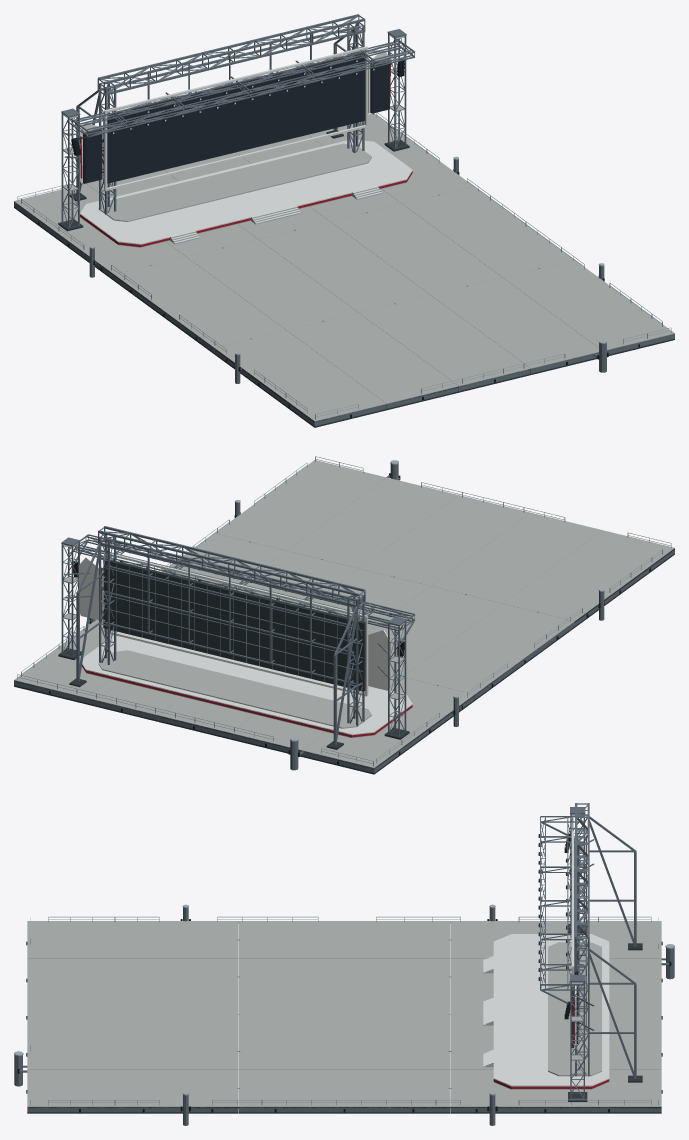
The model's file is sg-the-float.glb.
3 renders of one model, top to bottom at view 1: azimuth 30°, elevation 25°; view 2: azimuth 150°, elevation 25°; view 3: azimuth 270°, elevation 25°, orthographic. The views are drawn at different scales.
Parts seen in each view (by area): view 1: Platform_Deck, Performance_Riser_and_Stairs, LED_Screen_Main, Main_Stage_Proscenium, Overhead_Lighting_Trusses, Steel_Pontoon_Array, Perimeter_Guardrails, LED_Screens_Wings, Stage_Tower_Left, Stage_Tower_Right, Detachable_Mooring_Pylons, Edge_Fascia_and_Fenders; view 2: Platform_Deck, LED_Screen_Main, Main_Stage_Proscenium, Performance_Riser_and_Stairs, Steel_Pontoon_Array, Overhead_Lighting_Trusses, Perimeter_Guardrails, Stage_Wing_Cladding, Stage_Tower_Left, Stage_Tower_Right, Detachable_Mooring_Pylons, Edge_Fascia_and_Fenders; view 3: Platform_Deck, Performance_Riser_and_Stairs, Main_Stage_Proscenium, Steel_Pontoon_Array, Perimeter_Guardrails, Overhead_Lighting_Trusses, Detachable_Mooring_Pylons, Stage_Tower_Right, Edge_Fascia_and_Fenders, LED_Screen_Main, Stage_Tower_Left.
Boxes of the visible parts, x1,y1,x2,y2 form: Platform_Deck: (14, 113, 674, 421); Performance_Riser_and_Stairs: (80, 139, 412, 247); LED_Screen_Main: (103, 52, 365, 183); Main_Stage_Proscenium: (69, 14, 368, 214); Overhead_Lighting_Trusses: (67, 39, 415, 140); Steel_Pontoon_Array: (14, 202, 674, 427); Perimeter_Guardrails: (17, 112, 671, 419); LED_Screens_Wings: (83, 59, 389, 183); Stage_Tower_Left: (58, 108, 83, 231); Stage_Tower_Right: (384, 29, 409, 151); Detachable_Mooring_Pylons: (82, 156, 608, 383); Edge_Fascia_and_Fenders: (18, 205, 639, 422); Platform_Deck: (14, 460, 674, 768); LED_Screen_Main: (103, 560, 365, 691); Main_Stage_Proscenium: (69, 526, 368, 749); Performance_Riser_and_Stairs: (80, 632, 412, 737); Steel_Pontoon_Array: (14, 550, 674, 774); Overhead_Lighting_Trusses: (67, 534, 415, 645); Perimeter_Guardrails: (17, 456, 671, 766); Stage_Wing_Cladding: (64, 557, 390, 690); Stage_Tower_Left: (384, 617, 409, 739); Stage_Tower_Right: (58, 537, 81, 659); Detachable_Mooring_Pylons: (89, 460, 604, 770); Edge_Fascia_and_Fenders: (15, 548, 674, 769); Platform_Deck: (27, 921, 661, 1106); Performance_Riser_and_Stairs: (483, 934, 609, 1089); Main_Stage_Proscenium: (571, 803, 642, 1082); Steel_Pontoon_Array: (27, 1107, 661, 1113); Perimeter_Guardrails: (30, 916, 658, 1105); Overhead_Lighting_Trusses: (540, 816, 583, 1005); Detachable_Mooring_Pylons: (14, 904, 674, 1125); Stage_Tower_Right: (564, 975, 587, 1101); Edge_Fascia_and_Fenders: (26, 922, 662, 1112); LED_Screen_Main: (574, 838, 579, 1043); Stage_Tower_Left: (564, 807, 587, 933).
Size of the model in its own units: 85 by 33.6 by 125.
